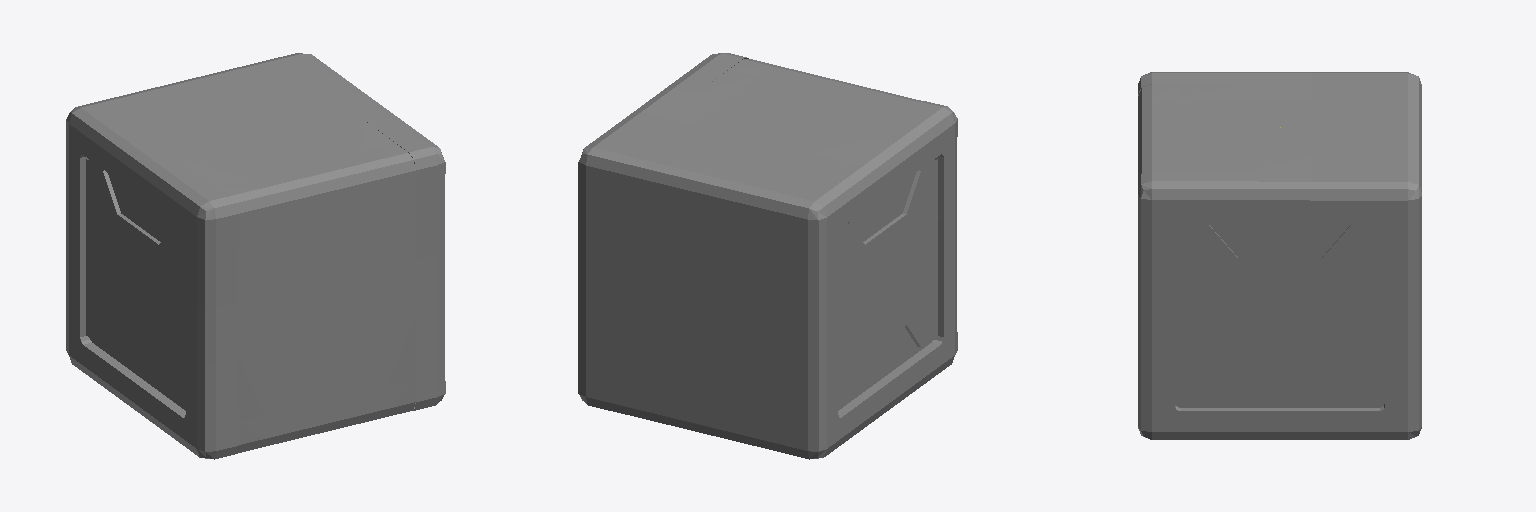
The model's file is cpz_obj_floor_2bx_M.obj.
3 renders of one model, left to right at view 1: azimuth 30°, elevation 25°; view 2: azimuth 150°, elevation 25°; view 3: azimuth 270°, elevation 25°, orthographic.
Parts seen in each view (by area): view 1: ccp_metal_yy_floor2_Lumi_dpnE, cpz_metal_yy_slop_cmn_dpn, cpz_metal_yy1_ylwflor_Cmn_dpn, cpz_yy1_road_cmn_dp, ccp_metal_yy_gray02_Lumin_dpnE, cpz_metal_tn1_wirenet_001; view 2: ccp_metal_yy_floor2_Lumi_dpnE, cpz_metal_yy_slop_cmn_dpn, cpz_metal_yy1_ylwflor_Cmn_dpn, cpz_yy1_road_cmn_dp, ccp_metal_yy_gray02_Lumin_dpnE, cpz_metal_tn1_wirenet_001; view 3: cpz_metal_yy_slop_cmn_dpn, ccp_metal_yy_gray02_Lumin_dpnE, cpz_metal_yy1_ylwflor_Cmn_dpn, ccp_metal_yy_floor2_Lumi_dpnE, cpz_metal_tn1_wirenet_001, cpz_yy1_road_cmn_dp.
Boxes of the visible parts, box(x1,y1,x2,y2) form: ccp_metal_yy_floor2_Lumi_dpnE: box(145, 75, 386, 415); cpz_metal_yy_slop_cmn_dpn: box(66, 53, 445, 459); cpz_metal_yy1_ylwflor_Cmn_dpn: box(66, 58, 444, 453); cpz_yy1_road_cmn_dp: box(116, 68, 415, 422); ccp_metal_yy_gray02_Lumin_dpnE: box(86, 168, 185, 397); cpz_metal_tn1_wirenet_001: box(89, 122, 414, 410); ccp_metal_yy_floor2_Lumi_dpnE: box(636, 76, 878, 416); cpz_metal_yy_slop_cmn_dpn: box(578, 53, 957, 459); cpz_metal_yy1_ylwflor_Cmn_dpn: box(578, 59, 956, 453); cpz_yy1_road_cmn_dp: box(608, 69, 905, 422); ccp_metal_yy_gray02_Lumin_dpnE: box(838, 168, 937, 398); cpz_metal_tn1_wirenet_001: box(712, 81, 934, 410); cpz_metal_yy_slop_cmn_dpn: box(1138, 72, 1421, 439); ccp_metal_yy_gray02_Lumin_dpnE: box(1175, 234, 1384, 392); cpz_metal_yy1_ylwflor_Cmn_dpn: box(1138, 72, 1421, 439); ccp_metal_yy_floor2_Lumi_dpnE: box(1179, 98, 1382, 156); cpz_metal_tn1_wirenet_001: box(1175, 221, 1384, 407); cpz_yy1_road_cmn_dp: box(1179, 84, 1382, 170).
Bounding box in the file's own units: 72.04 × 72.04 × 72.18.